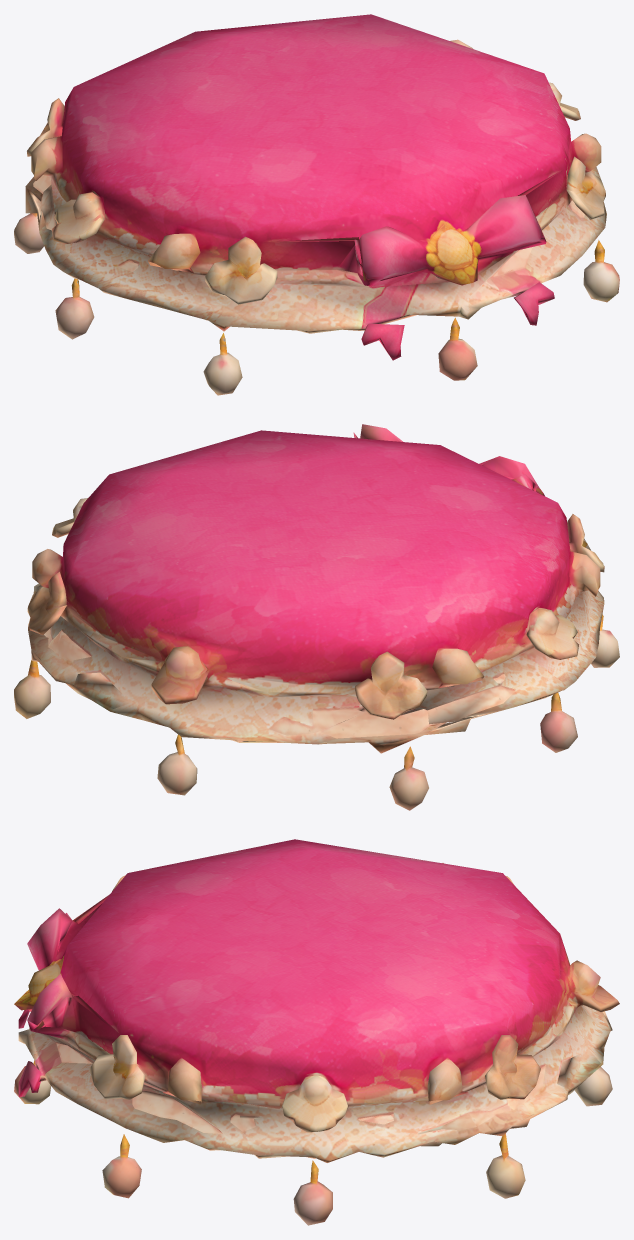
3 renders of one model, top to bottom at view 1: azimuth 30°, elevation 25°; view 2: azimuth 150°, elevation 25°; view 3: azimuth 270°, elevation 25°, orthographic.
Visible parts, largest first — view 1: tripo_node_9b4f2468; view 2: tripo_node_9b4f2468; view 3: tripo_node_9b4f2468.
Boxes of the visible parts, x1,y1,x2,y2 form: tripo_node_9b4f2468: [14, 14, 619, 395]; tripo_node_9b4f2468: [14, 424, 619, 810]; tripo_node_9b4f2468: [14, 839, 619, 1225].
Size of the model in its own units: 1 by 0.3281 by 0.9961.
1 material, 1 textured.
